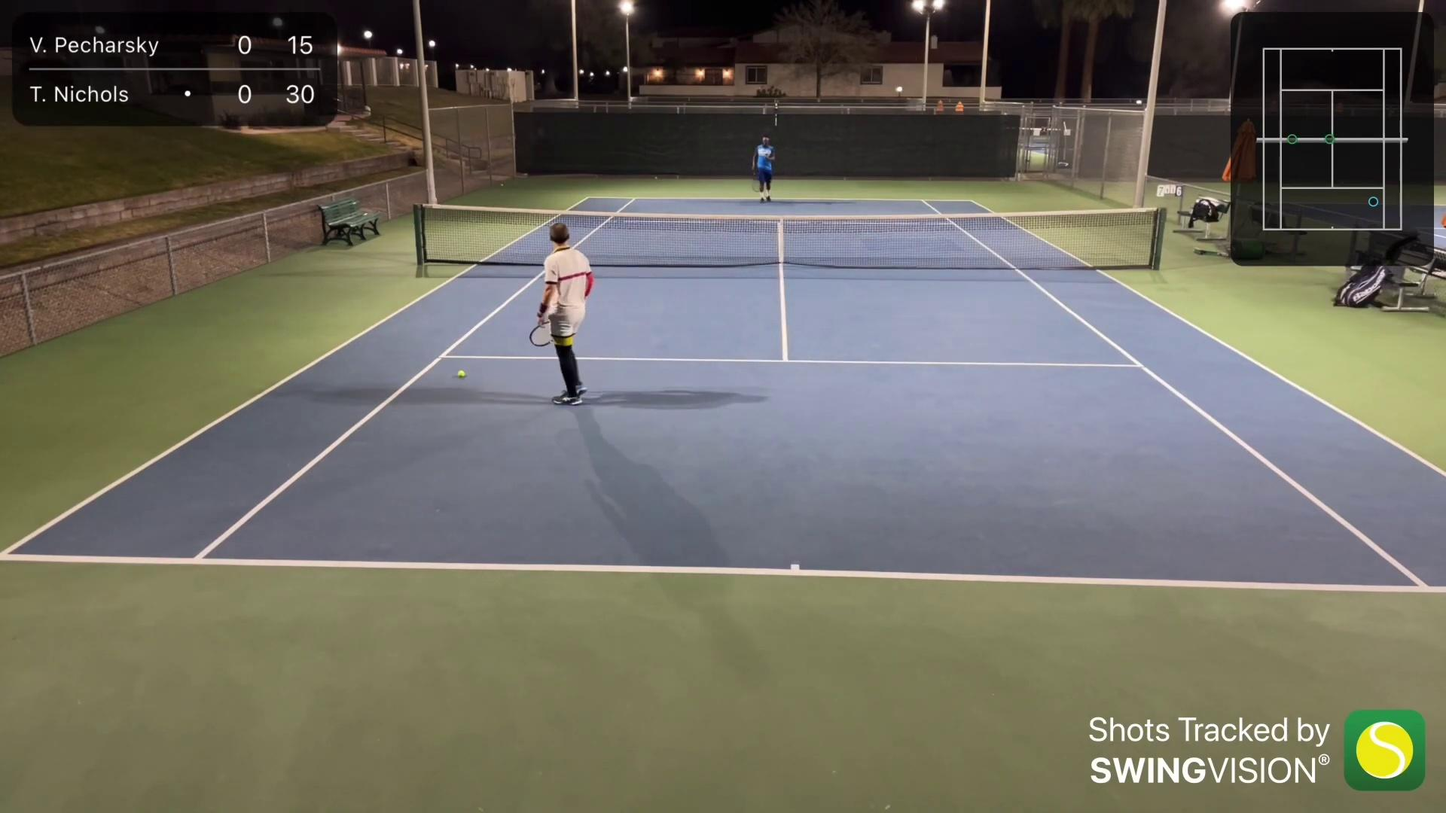ball: (456, 369, 465, 377)
